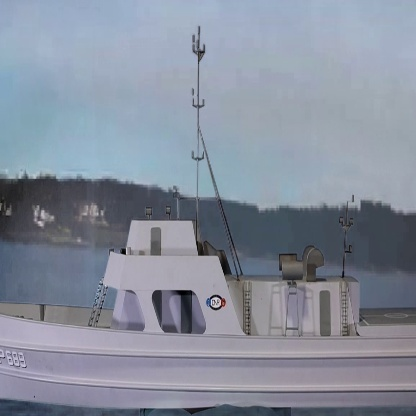YP689: (0, 3, 416, 414)
